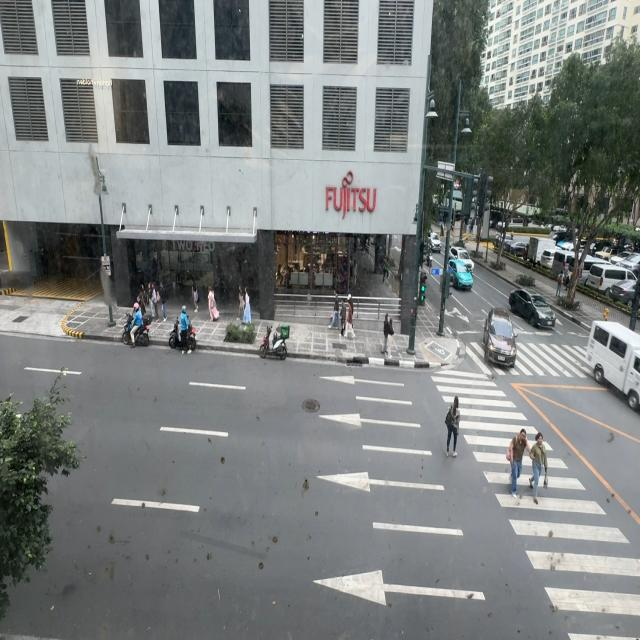crossing: (507, 428, 532, 500), (528, 430, 548, 503)
jaywalking: (445, 398, 461, 458)
pedestrain: (343, 294, 356, 340), (380, 311, 392, 358), (329, 291, 341, 331), (149, 283, 159, 323), (242, 286, 251, 324), (339, 300, 347, 338), (238, 286, 246, 322), (556, 270, 562, 299)
